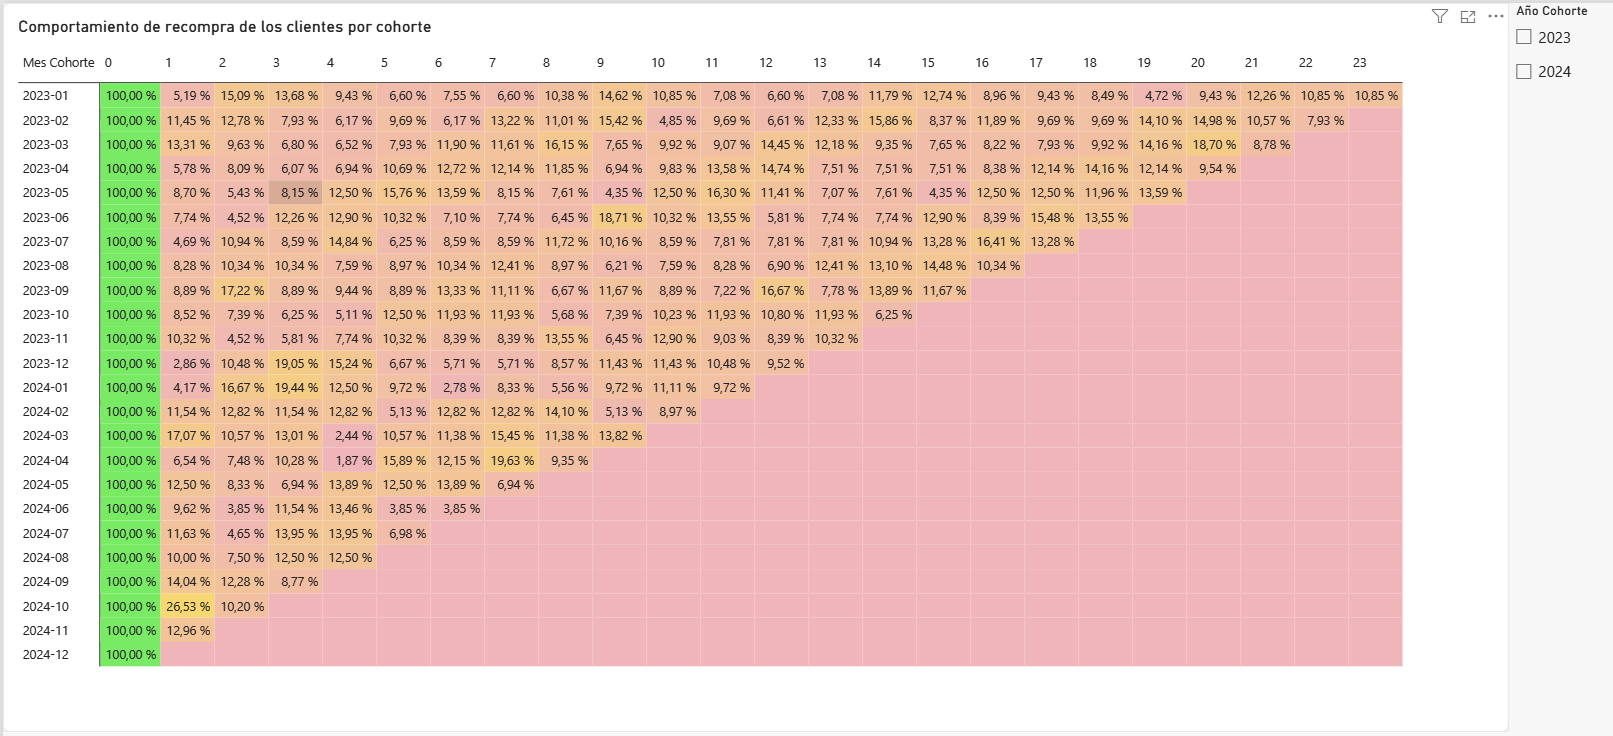

The page's visual inventory and layout, read from the dashboard file:
{"tool":"powerbi","page":{"name":"Análisis de Cohortes","canvas":[1920,1080],"ordinal":2},"visuals":[{"type":"pivotTable","title":"Comportamiento de recompra de los clientes por cohorte","fields":{"Columns":["hecho_ventas_propiedades.Mes Venta"],"Rows":["hecho_ventas_propiedades.Mes Cohorte"],"Values":["hecho_ventas_propiedades.Retencion %"]},"box":[0,0,1672.9,810],"z":0},{"type":"slicer","fields":{"Values":["hecho_ventas_propiedades.Año Cohorte"]},"box":[1672.9,0,110,118.6],"z":1000}]}

Visuals, with their boxes on the page's 1920x1080 design canvas (x1, y1, x2, y2). These are canvas units, not pixel positions in the 1613x736 screenshot, which may show the page scaled, cropped or inside an application window:
"Comportamiento de recompra de los clientes por cohorte" pivotTable: x1=0, y1=0, x2=1673, y2=810
slicer - hecho_ventas_propiedades.Año Cohorte: x1=1673, y1=0, x2=1783, y2=119
